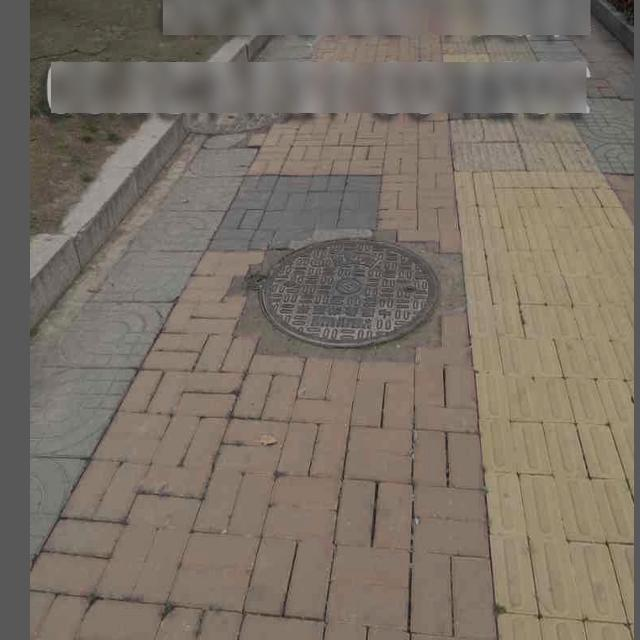good: (257, 230, 443, 344)
